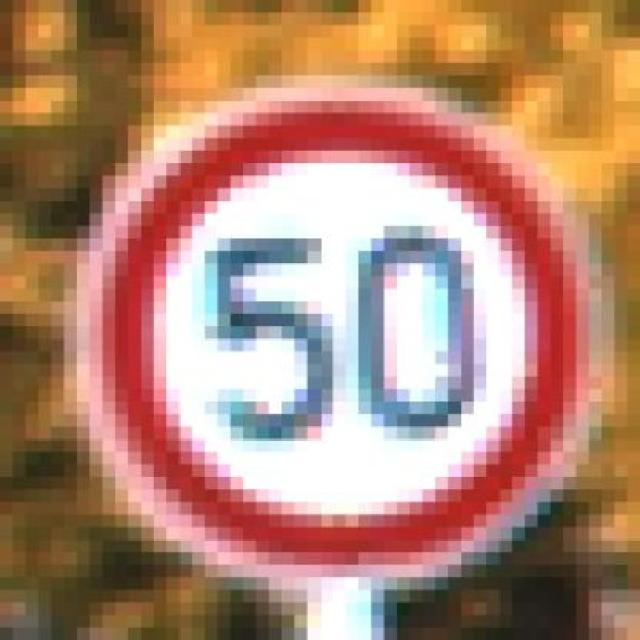forb_speed_over_50: (99, 94, 579, 569)
